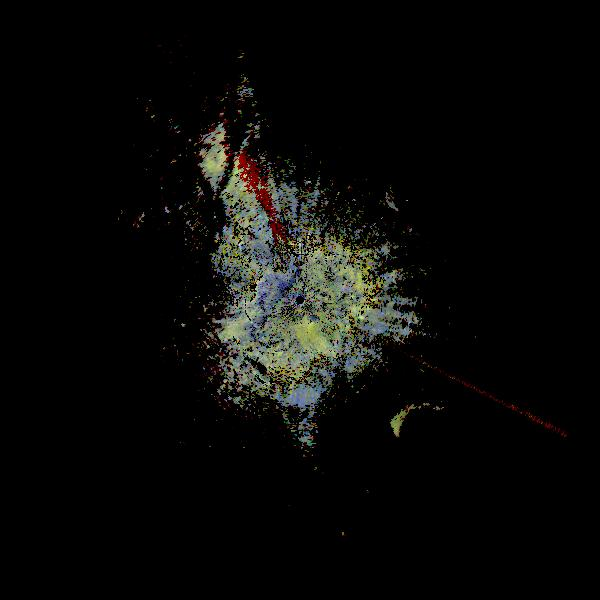roost: (353, 373, 536, 556), (369, 152, 498, 281)
